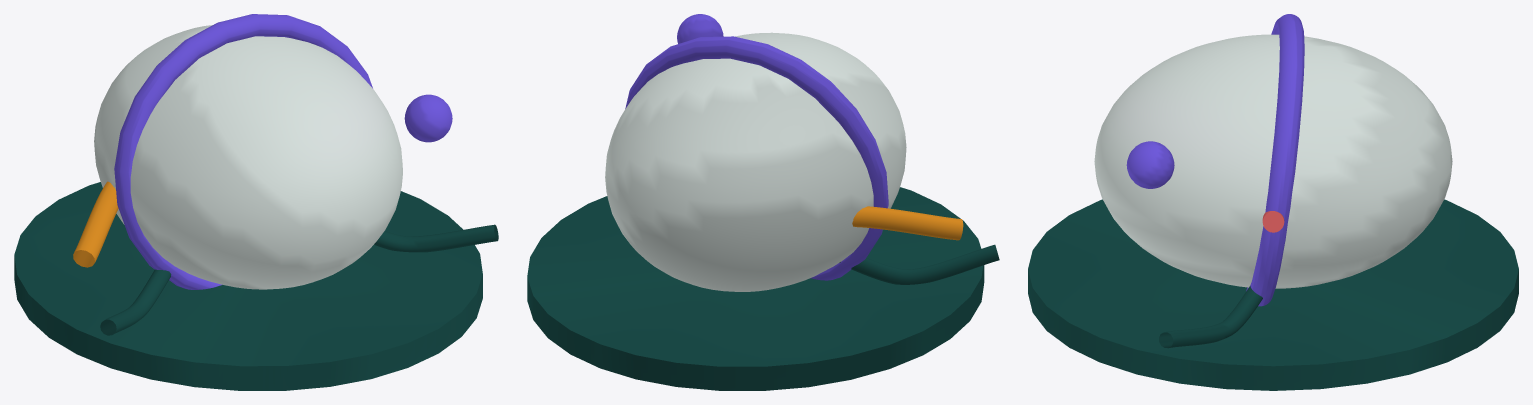
File: 0196_人体图鉴_B细胞.glb
The picture shows the model from 3 angles, left to right: view 1: azimuth 30°, elevation 25°; view 2: azimuth 150°, elevation 25°; view 3: azimuth 270°, elevation 25°; orthographic projection. The views are drawn at different scales.
Visible parts, largest first — view 1: card_0196; view 2: card_0196; view 3: card_0196.
Part boxes in pixels (x1,y1,x2,y2): card_0196: [14, 14, 498, 390]; card_0196: [527, 14, 999, 390]; card_0196: [1028, 14, 1518, 390].
Size of the model in its own units: 1.58 by 1 by 1.69.
